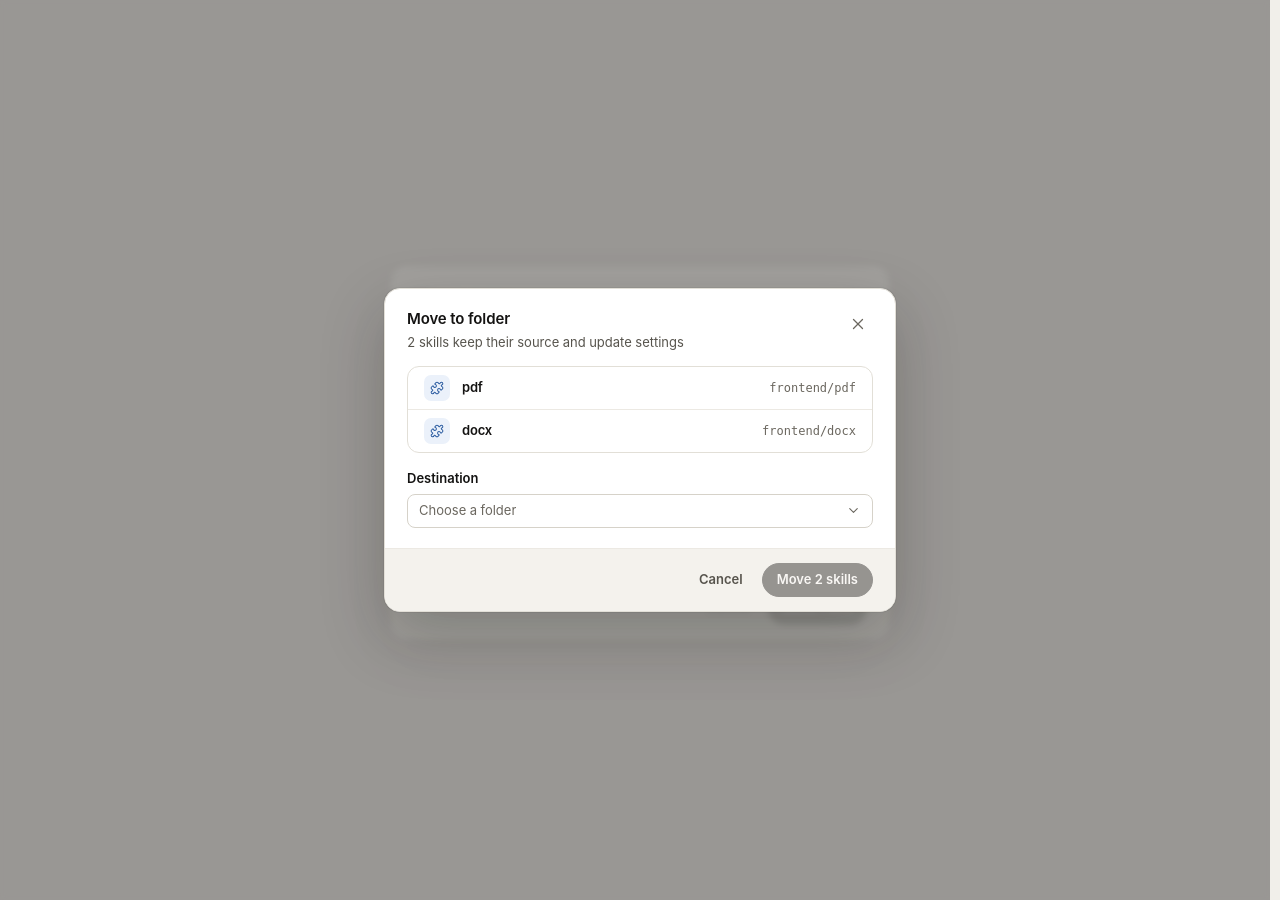
Test: MoveDialog › offers "Move anyway" only for a name collision, and retries only that item
Click the dropdown named "Destination".
click(468, 510)  # box [407, 494, 873, 528]
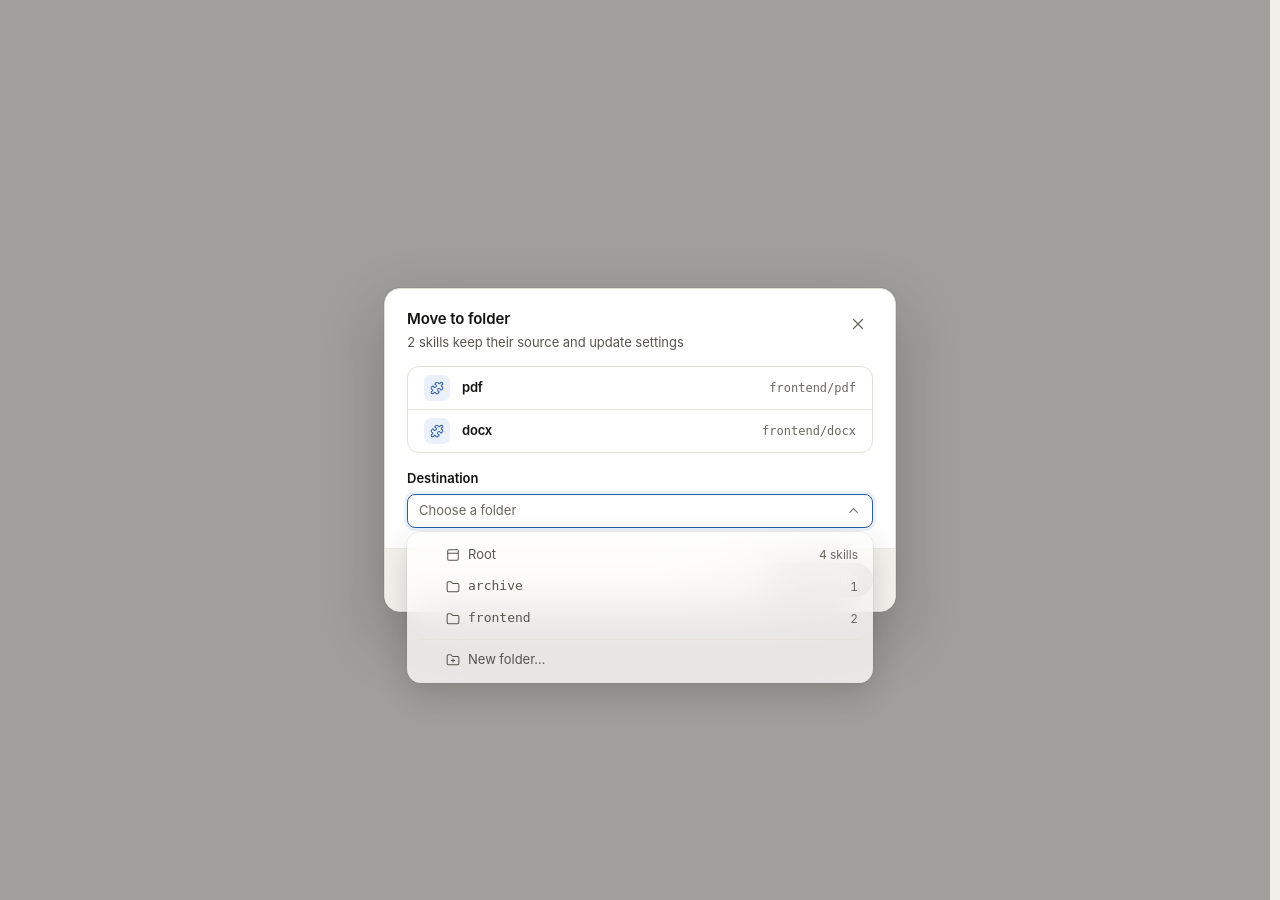
Click the option "archive 1".
click(495, 586)  # box [446, 578, 858, 594]
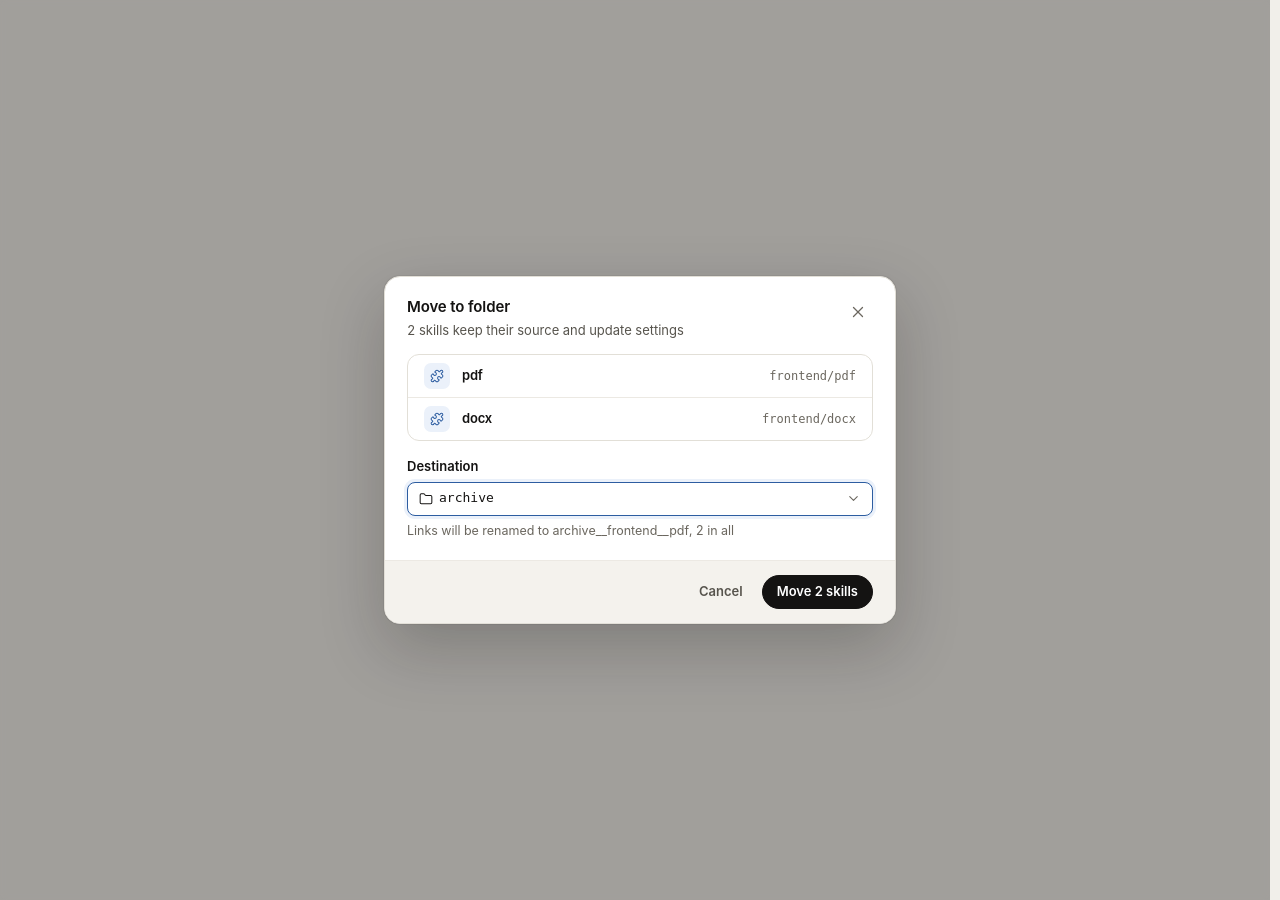
Click the button "Move 2 skills".
click(817, 592)  # box [762, 575, 873, 609]
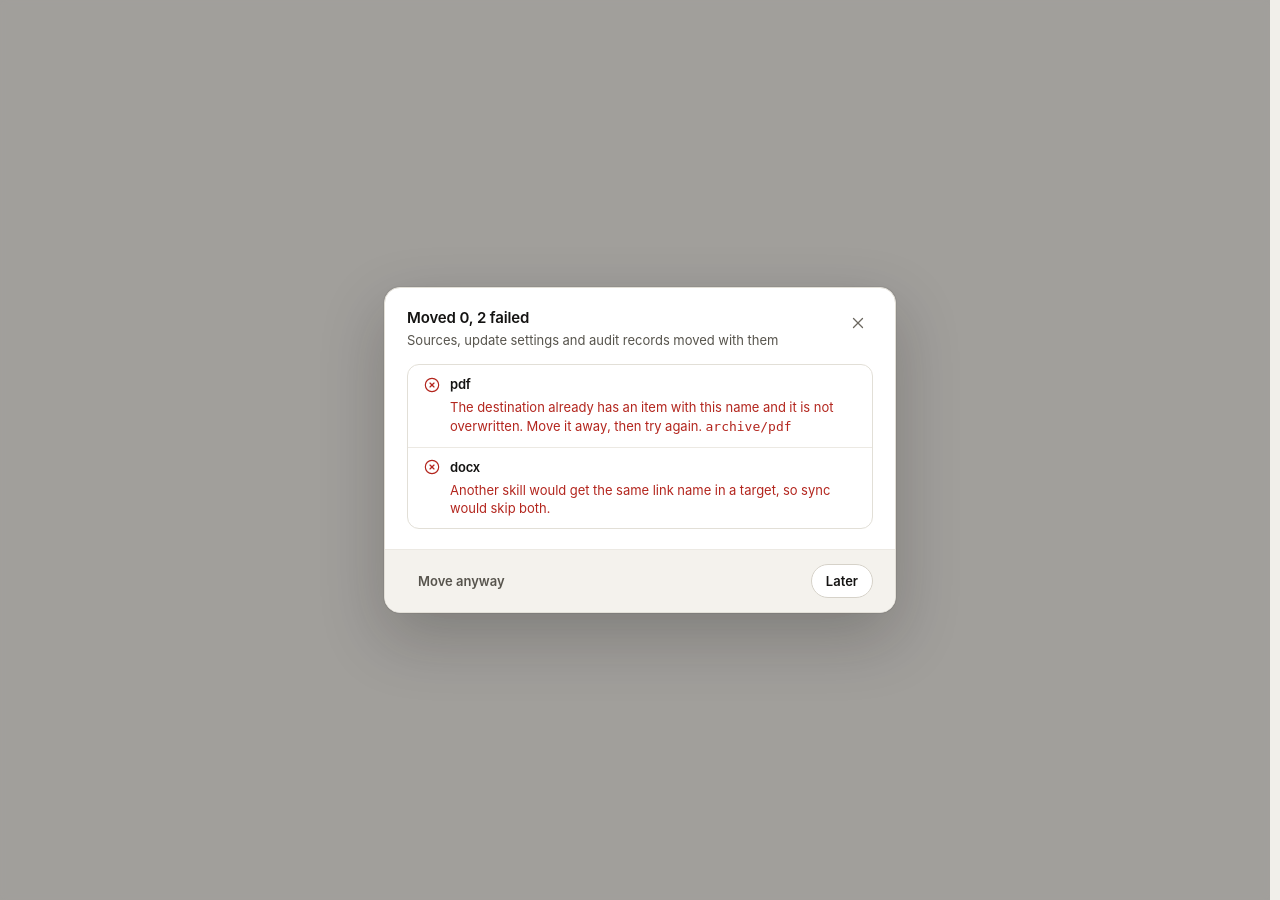
Result: the heading "Moved 0, 2 failed" is shown at [407, 308, 529, 327]
Click the button "Move anyway".
click(461, 581)  # box [407, 564, 516, 598]
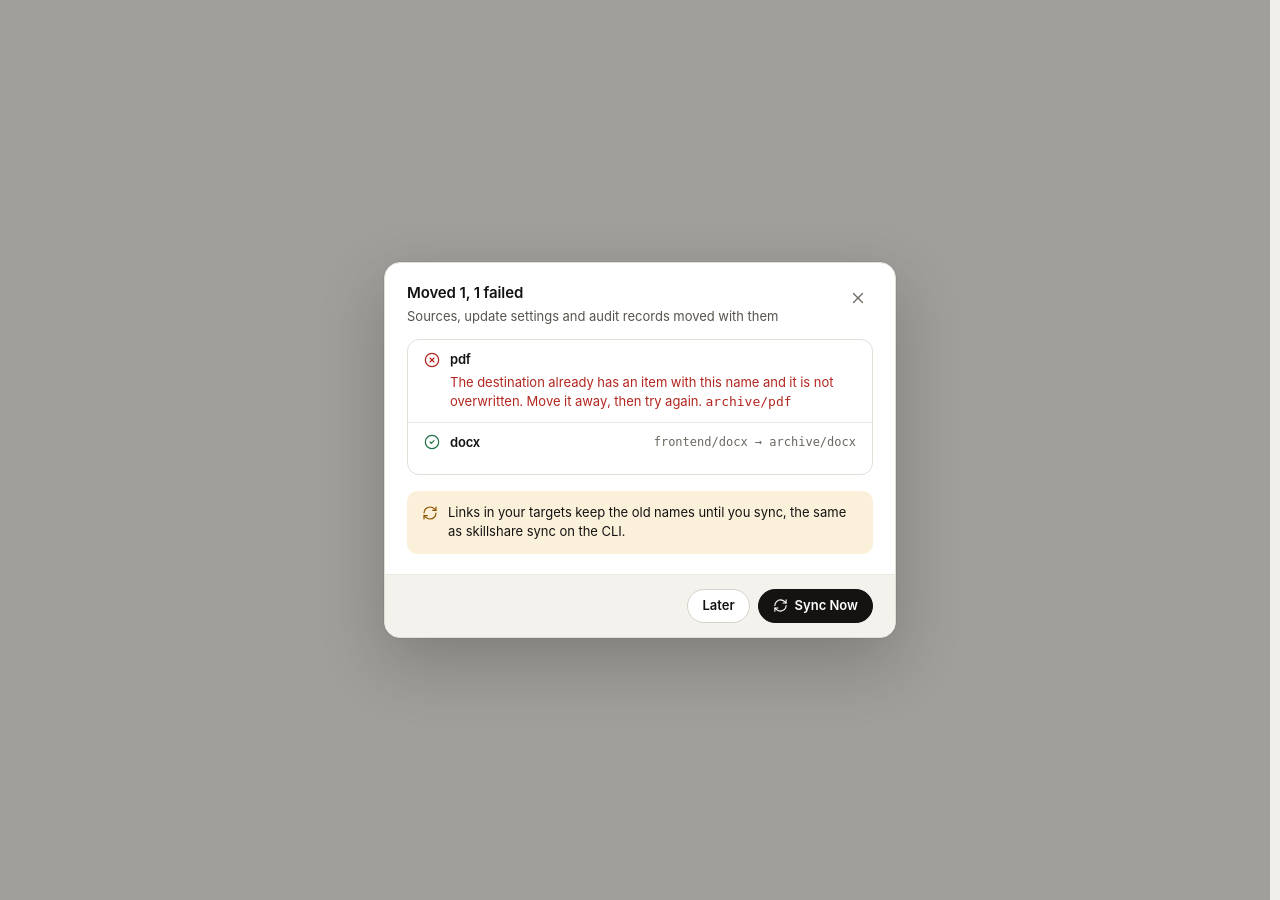
Result: the heading "Moved 1, 1 failed" is shown at [407, 283, 523, 302]
Result: the button "Move anyway" is gone
